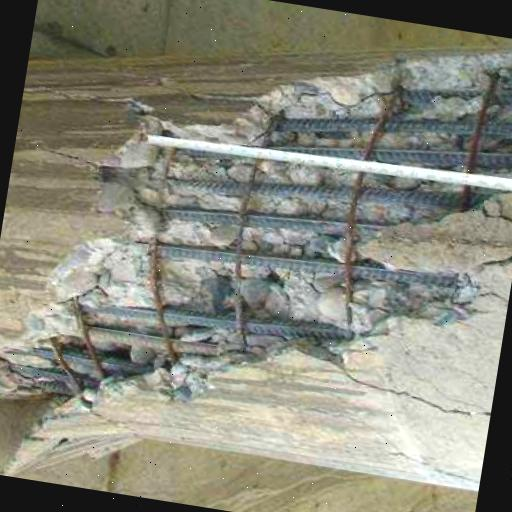spalling: (0, 56, 512, 409)
